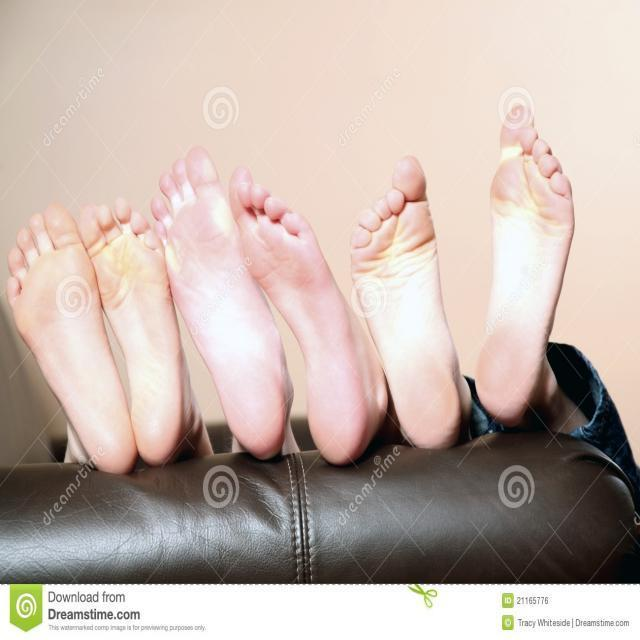Barefoots: (148, 121, 299, 464), (231, 169, 372, 475), (0, 173, 135, 480), (469, 100, 588, 445), (345, 147, 474, 465), (73, 178, 197, 476)
